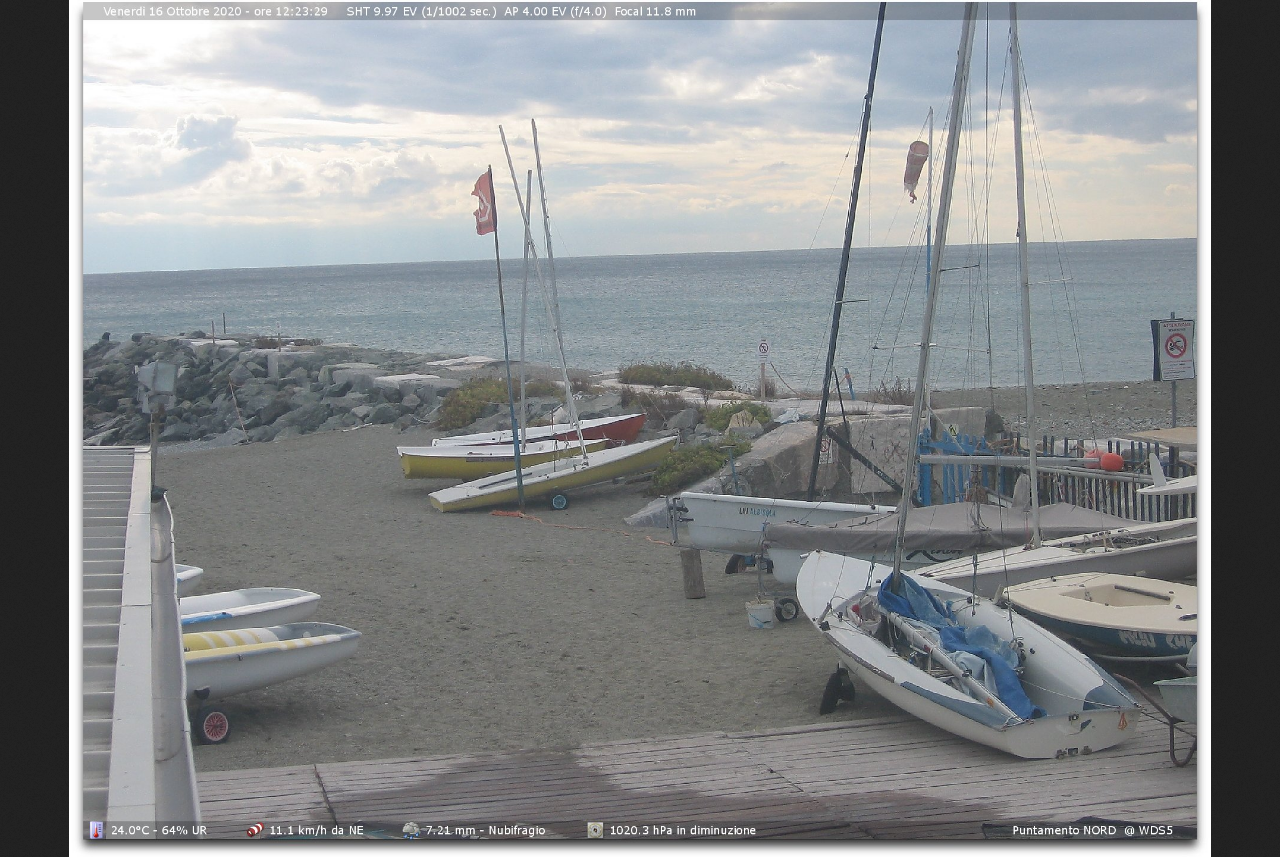yes: (474, 169, 497, 236)
